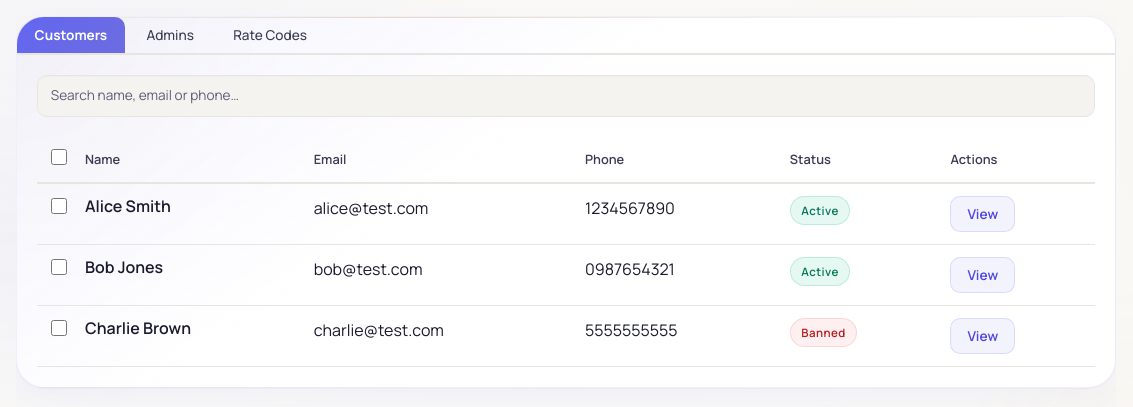
Test: AdminUsersConfig Page › filters customers by search input
Expected: the text "Alice Smith" is shown, left=85, top=195, right=171, bottom=217
Step 1. Type "bob" into the field with placeholder "Search name, email or phone…" → (566, 96), box left=37, top=75, right=1095, bottom=117
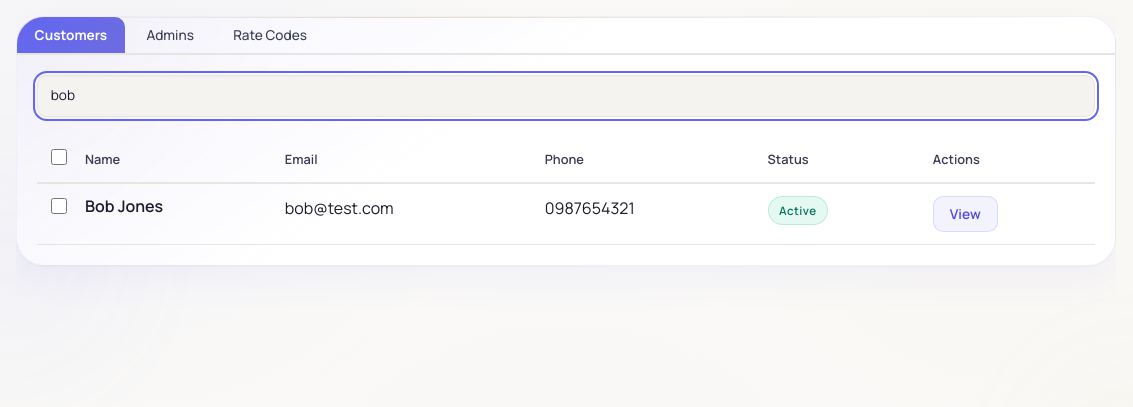
Expected: the text "Bob Jones" is shown, left=85, top=195, right=163, bottom=217
Expected: the text "Alice" is gone
